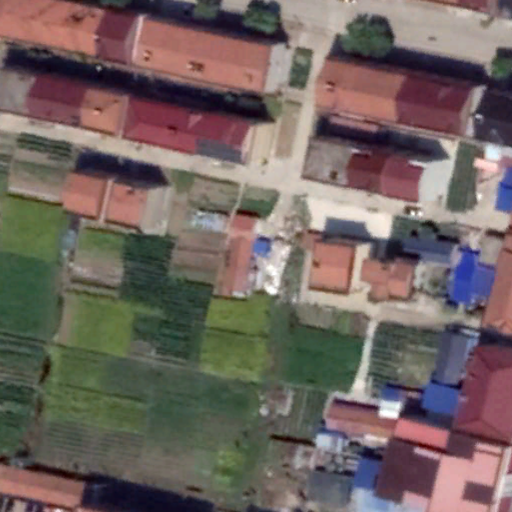msw: (251, 217, 303, 300)
